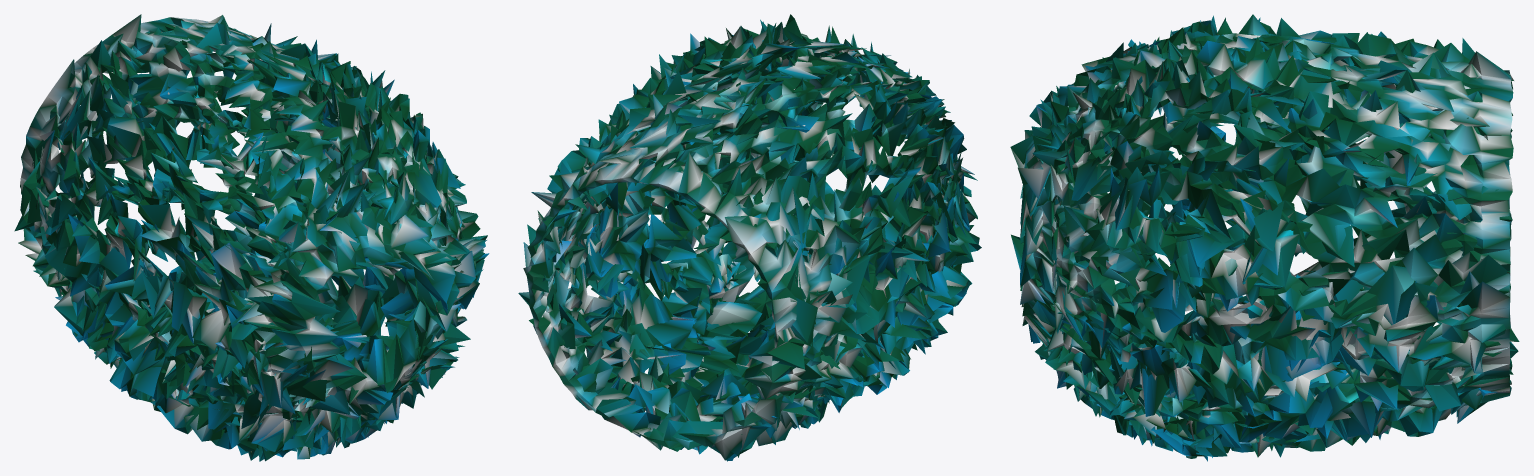
The model's file is lamp_shade_14_final500.obj.
The picture shows the model from 3 angles, left to right: view 1: azimuth 30°, elevation 25°; view 2: azimuth 150°, elevation 25°; view 3: azimuth 270°, elevation 25°; orthographic projection. The views are drawn at different scales.
Bounding box in the file's own units: 1.36 × 1.36 × 1.56.
